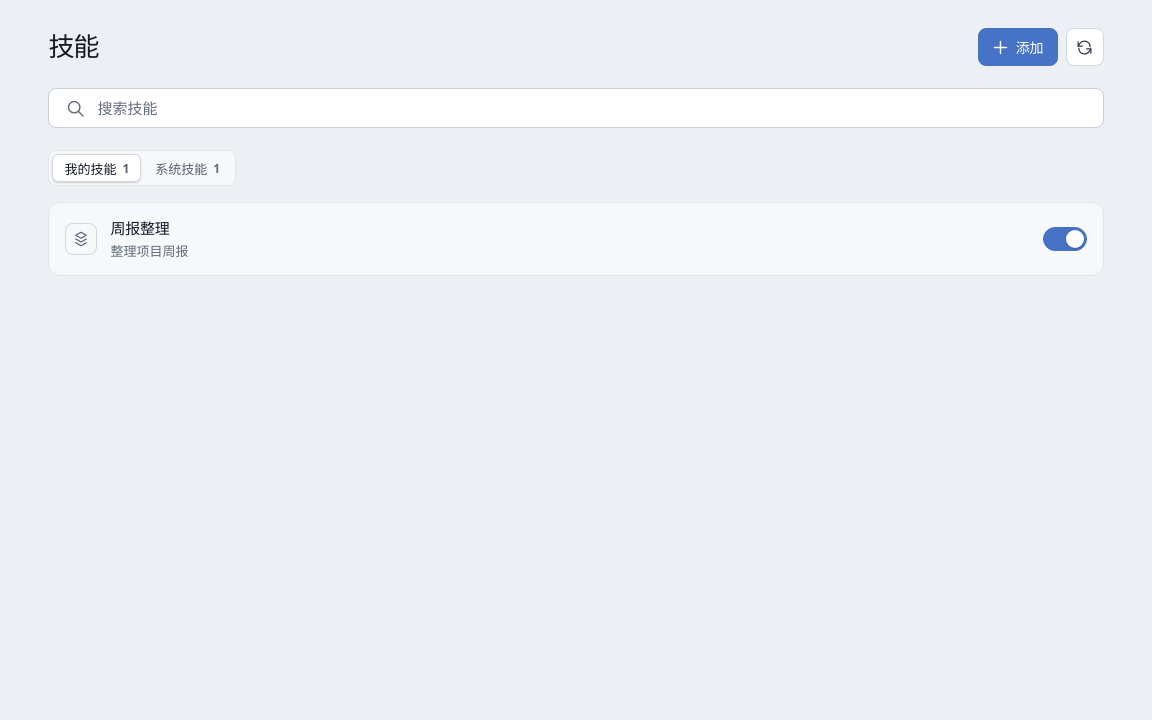
Test: 技能管理页 › 默认展示我的技能，可查看详情
The width and height of the screenshot is (1152, 720).
Expected: the panel named "我的技能" is shown, [48,202,1104,276]
Click the text "周报整理" at (140, 228), box [110,218,170,238]
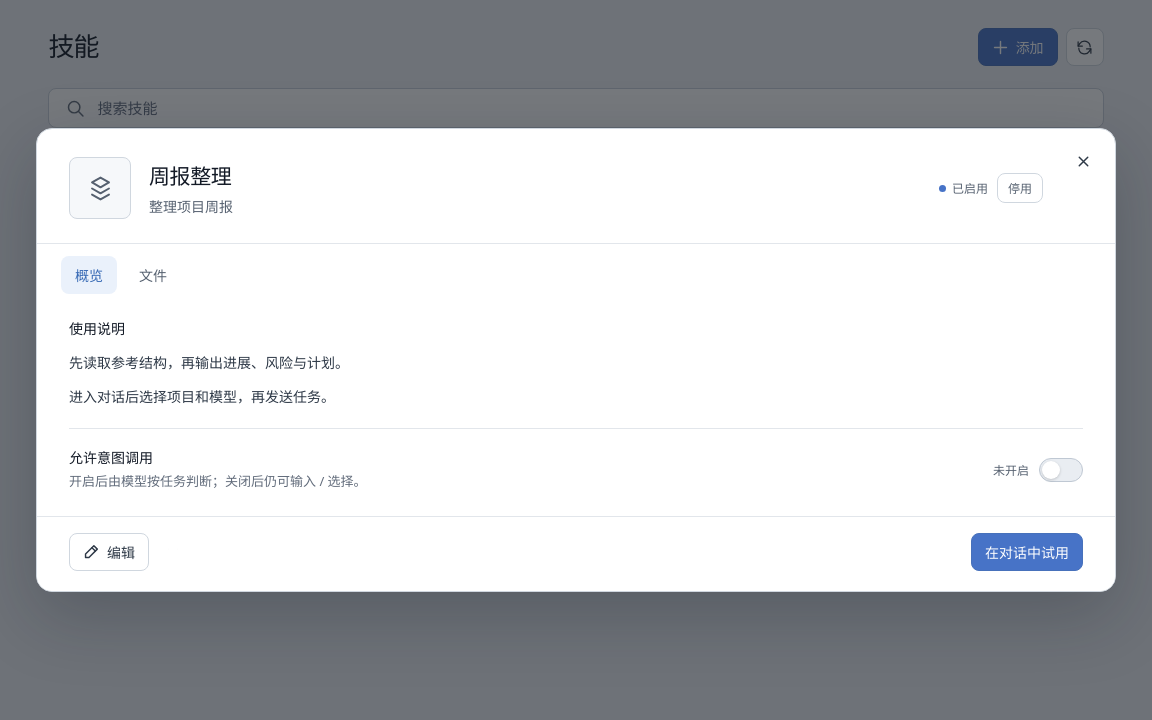
Expected: the text "先读取参考结构，再输出进展、风险与计划。" is shown, [69,353,349,372]
Expected: the text "已启用" is shown, [939,179,988,197]
Expected: the text "未开启" is shown, [993,460,1029,478]
Click the button "文件" at (153, 275), box [125,256,181,294]
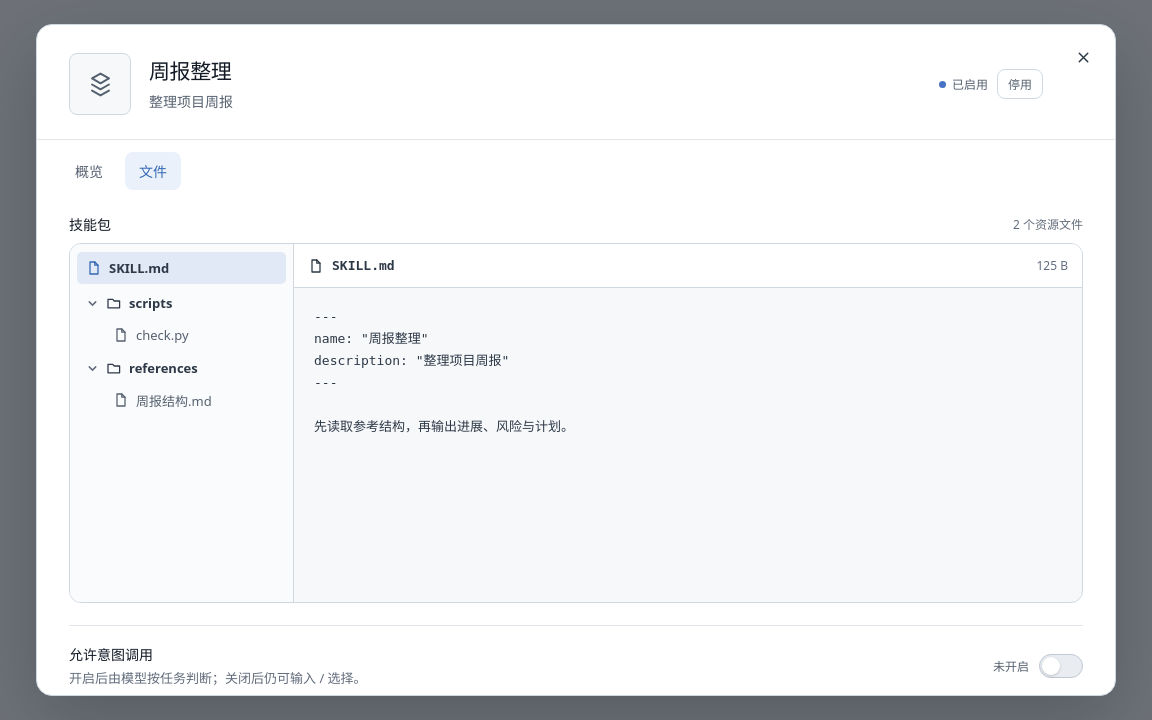
Click the button "references" at (182, 368), box [77,352,286,384]
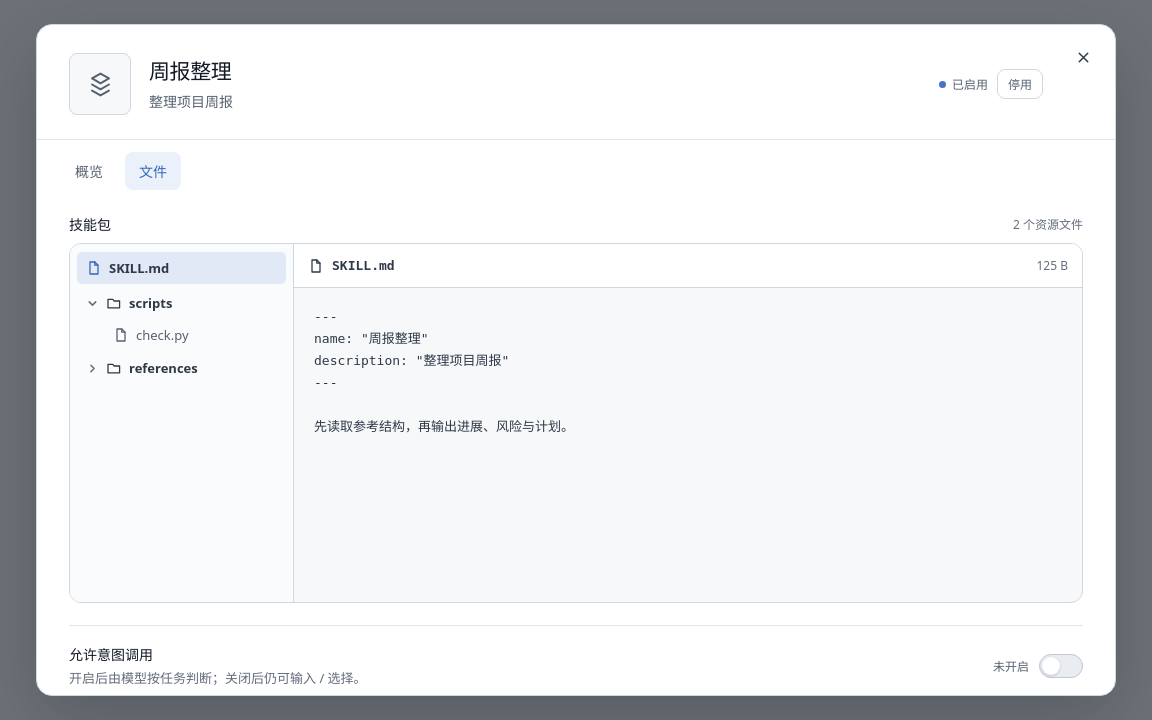
Expected: the button "周报结构.md" is gone
Click the button "references" at (182, 368), box [77,352,286,384]
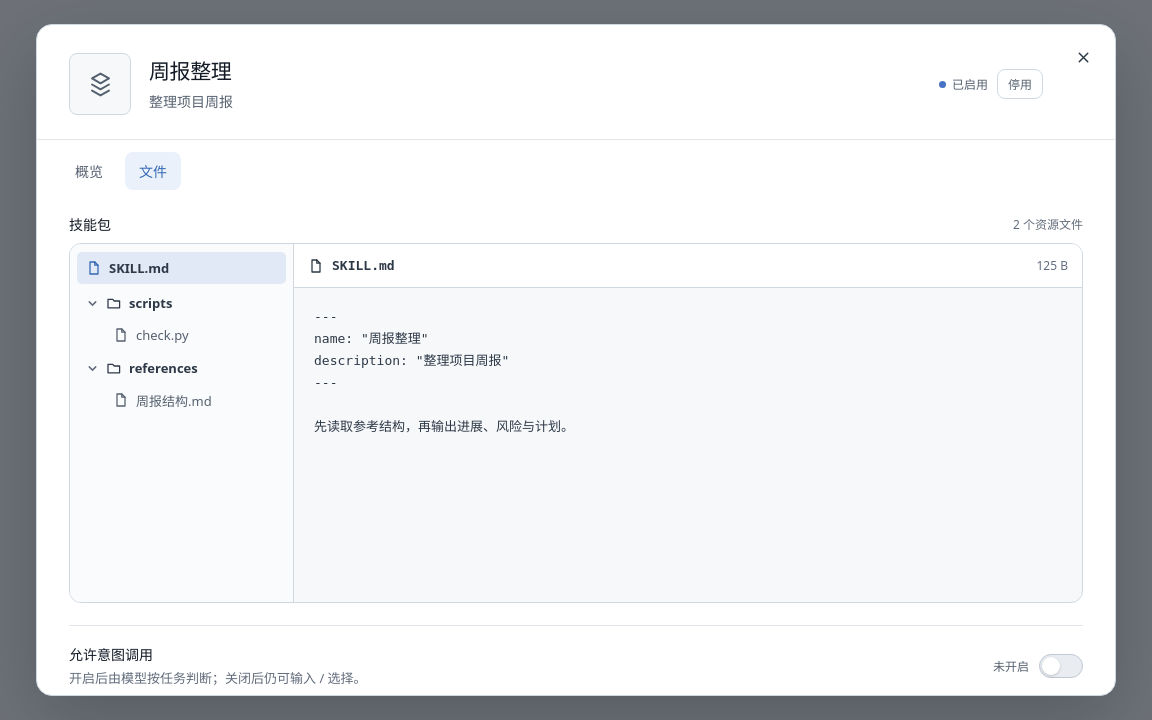
Click the button "周报结构.md" at (182, 400), box [77,384,286,416]
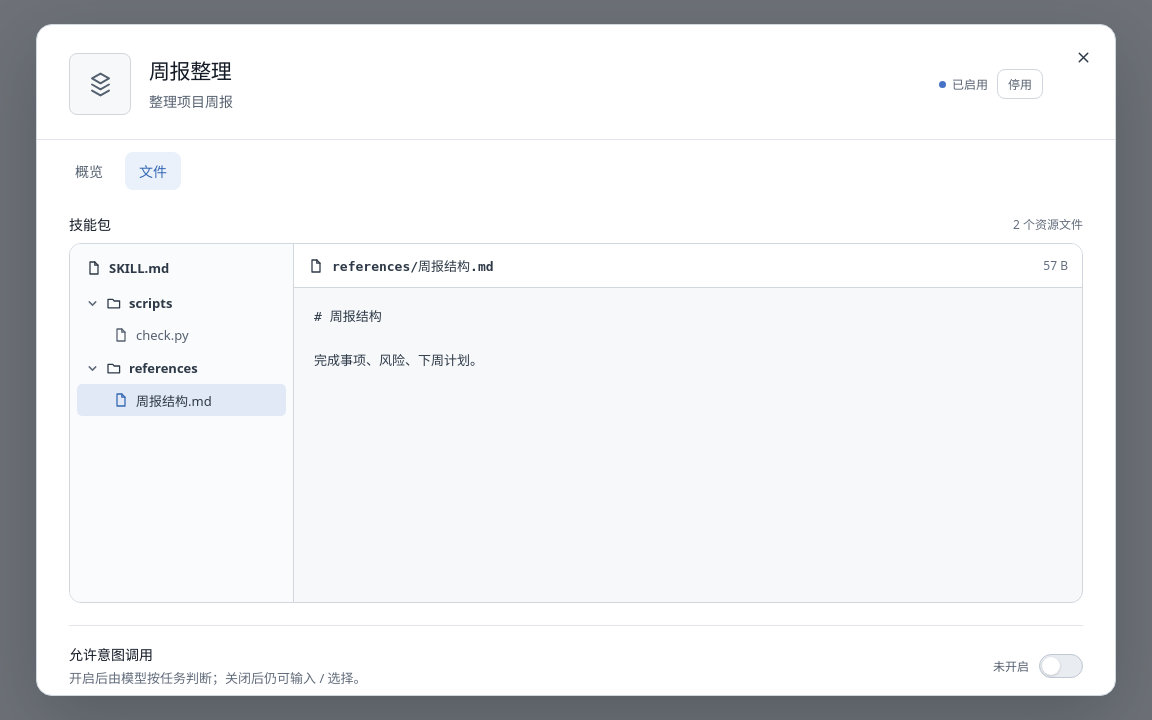
Expected: the text "# 周报结构 完成事项、风险、下周计划。" is shown, [314,309,483,368]
